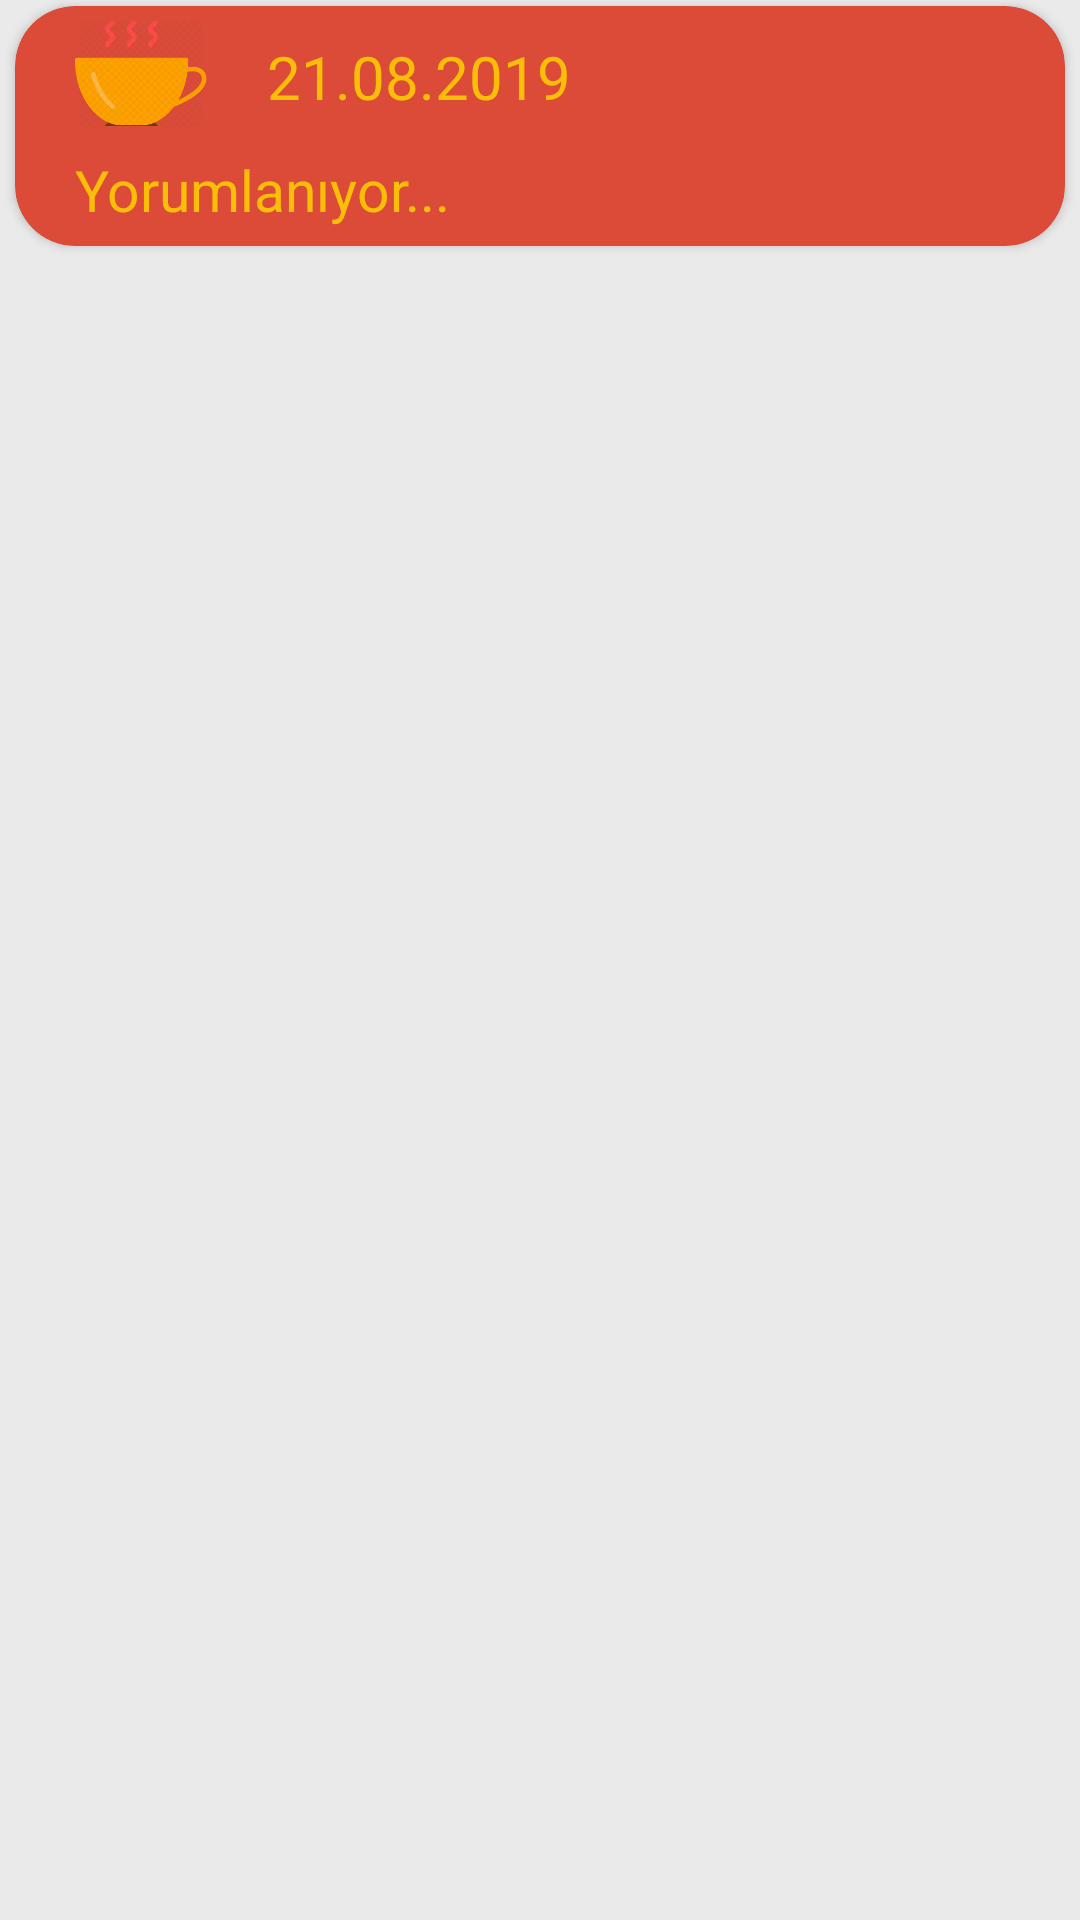

Locate icon controls on the screen. Image size 1080px×1920px, boxes as [left=x1, top=y1, right=x2, bottom=y2].
coffee: [left=75, top=21, right=206, bottom=126]
